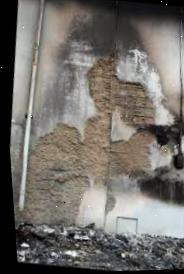spalling: (13, 53, 184, 228)
